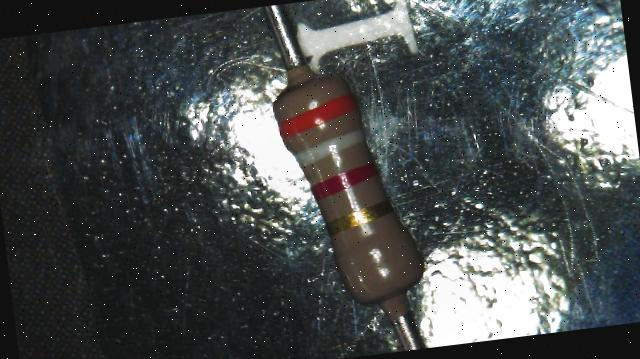gold: (325, 198, 396, 236)
orange: (276, 92, 360, 138)
red: (310, 161, 380, 199)
resistor: (247, 44, 446, 327)
white: (294, 128, 367, 168)
